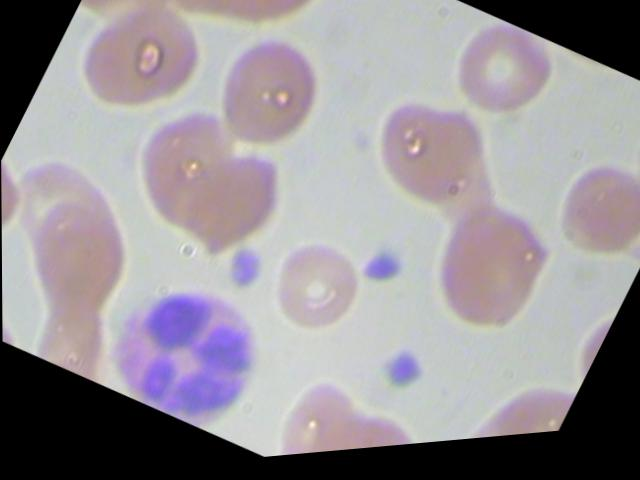Platelets: (368, 341, 437, 409), (215, 243, 276, 310), (351, 246, 409, 308)
Red Blood Cells: (412, 192, 572, 366), (1, 173, 156, 343), (56, 0, 224, 149), (160, 128, 304, 286), (193, 20, 337, 175), (353, 80, 499, 232), (247, 225, 382, 364), (433, 12, 568, 151), (535, 147, 639, 295), (306, 391, 443, 458)
White Blood Cells: (86, 254, 287, 454)
